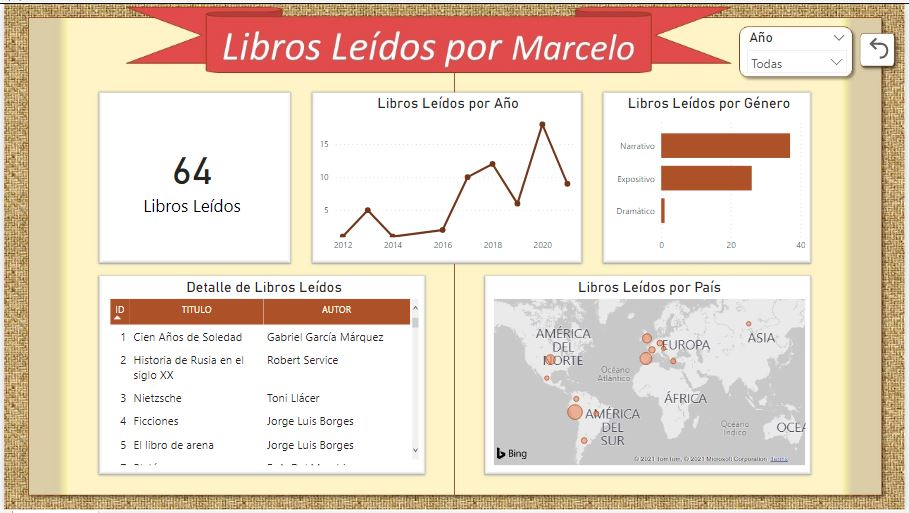

The dashboard page shown, as its layout file describes it:
{"tool":"powerbi","page":{"name":"Página 1","canvas":[1280,720],"ordinal":0},"visuals":[{"type":"card","fields":{"Values":["bdLibros.TITULO"]},"box":[144.9,180.4,244.3,130.7],"z":0},{"type":"lineChart","title":"Libros Leídos por Año","fields":{"Category":["bdLibros.ANIO_LEC"],"Y":["bdLibros.TITULO"]},"box":[443.1,129.2,374.9,231.5],"z":1000},{"type":"map","title":"Libros Leídos por País","fields":{"Category":["bdLibros.PAIS"],"Size":["bdLibros.TITULO"]},"box":[690.2,390.5,453,269.8],"z":2000},{"type":"barChart","title":"Libros Leídos por Género","fields":{"Category":["bdLibros.GENERO"],"Y":["bdLibros.TITULO"]},"box":[859.2,129.2,284,231.5],"z":3000},{"type":"tableEx","title":"Detalle de Libros Leídos","fields":{"Values":["bdLibros.ID","bdLibros.TITULO","bdLibros.AUTOR"]},"box":[144.9,390.5,448.8,269.8],"z":4000},{"type":"slicer","fields":{"Values":["bdLibros.ANIO_LEC"]},"box":[1045.2,31.2,161.9,80.9],"z":5000},{"type":"actionButton","box":[1222.7,42.6,39.8,39.8],"z":6000}]}

Visuals, with their boxes in screenshot pixels (x1, y1, x2, y2), scaled from the page's 1280x720 canvas onto the 909x513 screenshot:
card - bdLibros.TITULO: Rect(103, 129, 276, 222)
"Libros Leídos por Año" lineChart: Rect(315, 92, 581, 257)
"Libros Leídos por País" map: Rect(490, 278, 812, 470)
"Libros Leídos por Género" barChart: Rect(610, 92, 812, 257)
"Detalle de Libros Leídos" tableEx: Rect(103, 278, 422, 470)
slicer - bdLibros.ANIO_LEC: Rect(742, 22, 857, 80)
actionButton: Rect(868, 30, 897, 59)
